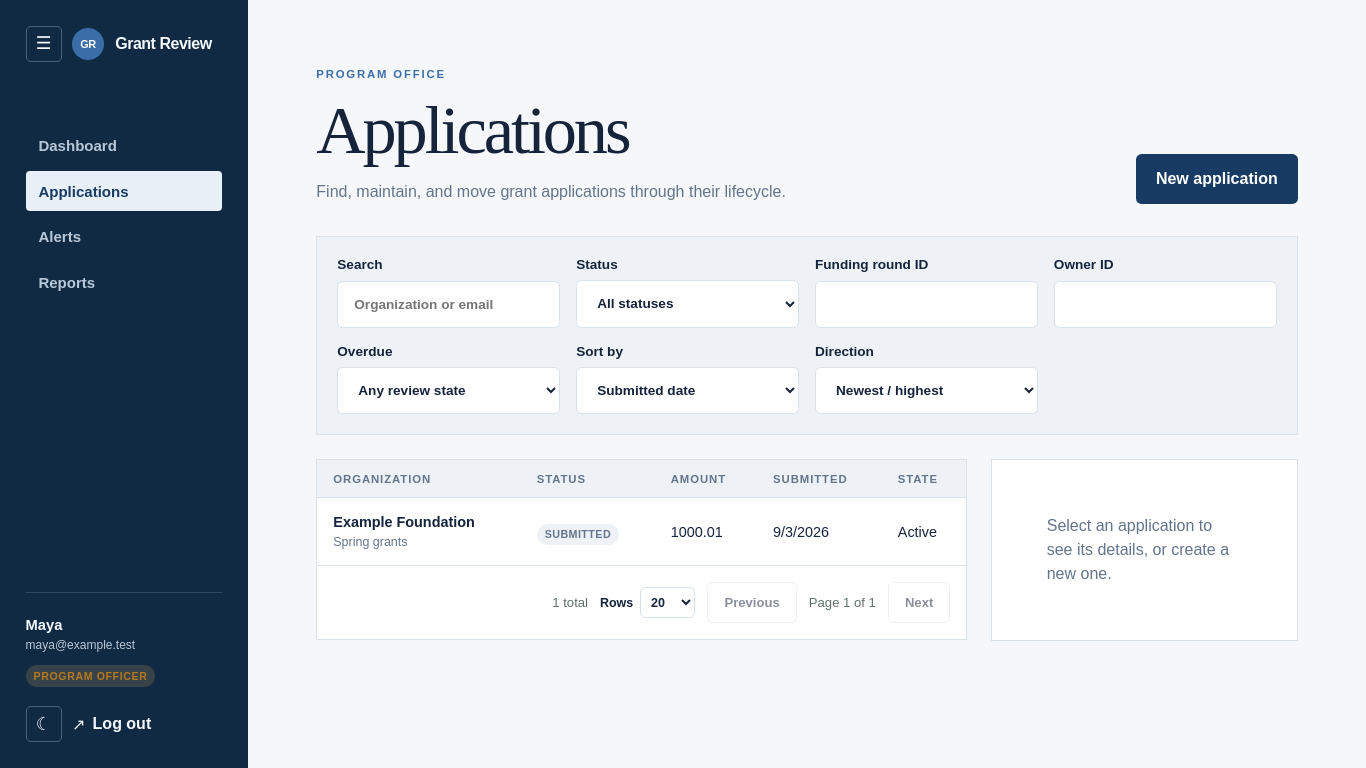
it: Program Officer application management › shows a failed detail request without retaining stale detail
The image size is (1366, 768).
Click the button "Example Foundation" at x=404, y=522, box [333, 514, 475, 530]
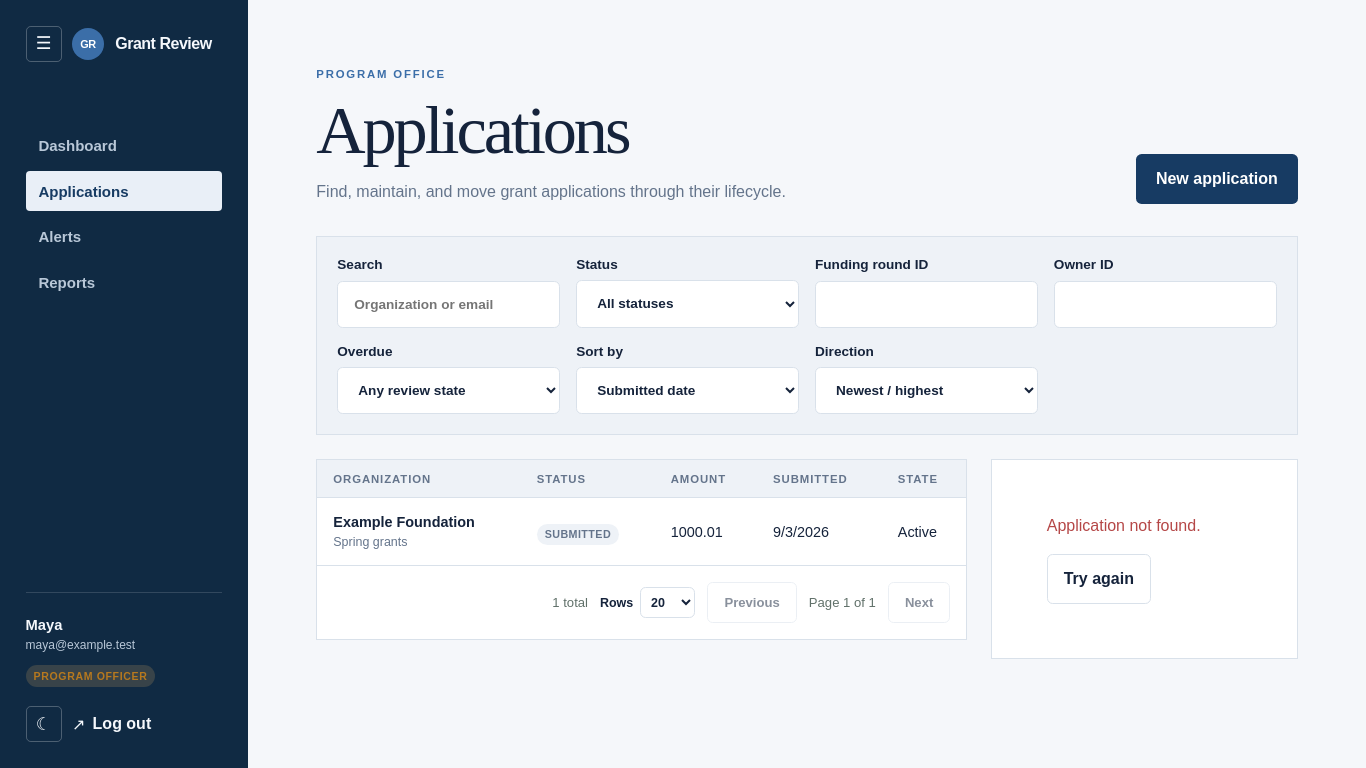
Expected: the message shows "Application not found.", [1047, 517, 1201, 534]
Expected: the text "Select an application to see its details, or create a new one." is gone
